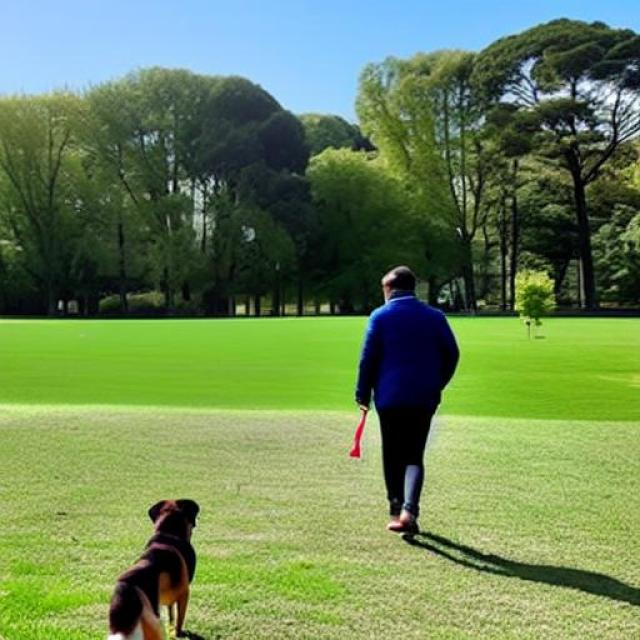Unleashed_Dog: (107, 386, 441, 640)
